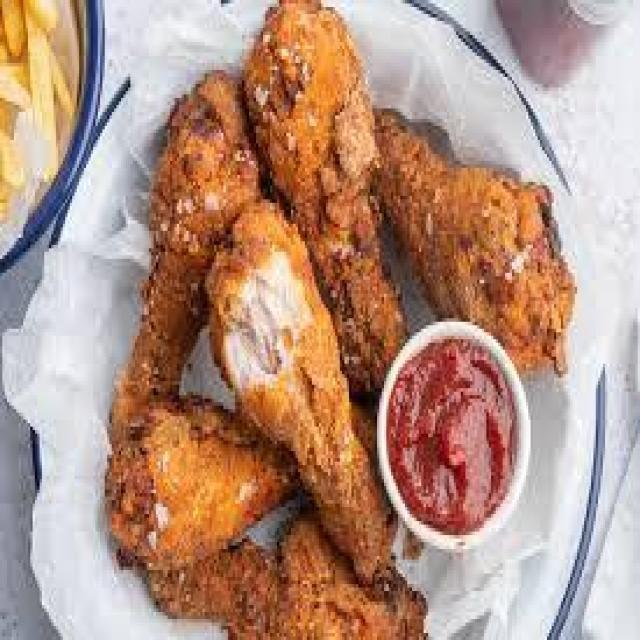Chicken -Fried Chicken-: (105, 8, 437, 634)
